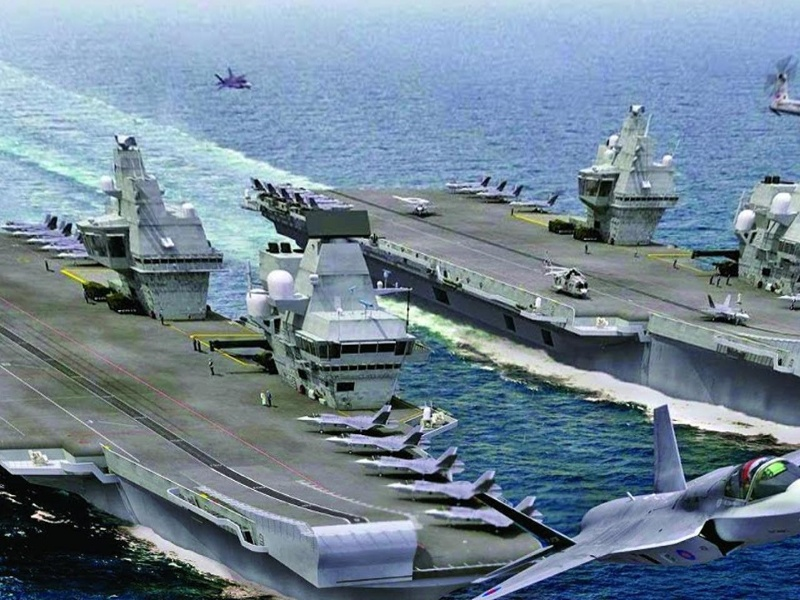carrier: (1, 146, 485, 586), (274, 115, 798, 405)
